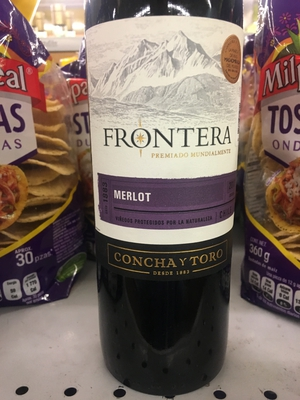frontera merlot: (85, 2, 252, 381)
